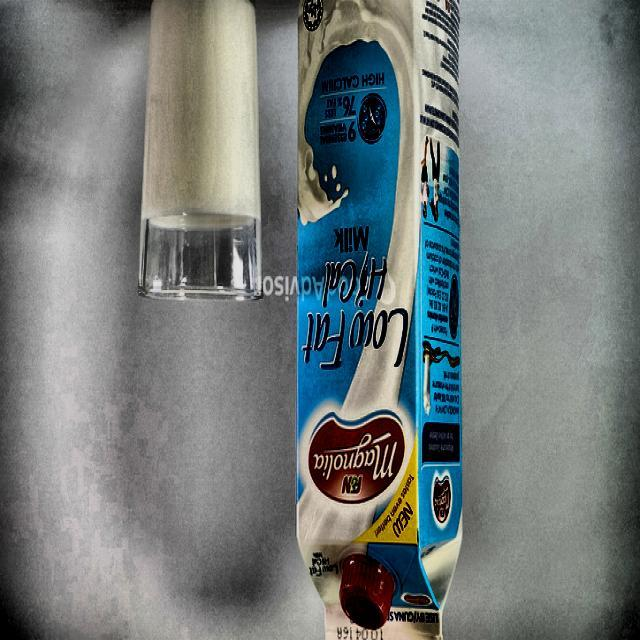cardboard: (294, 0, 464, 640)
